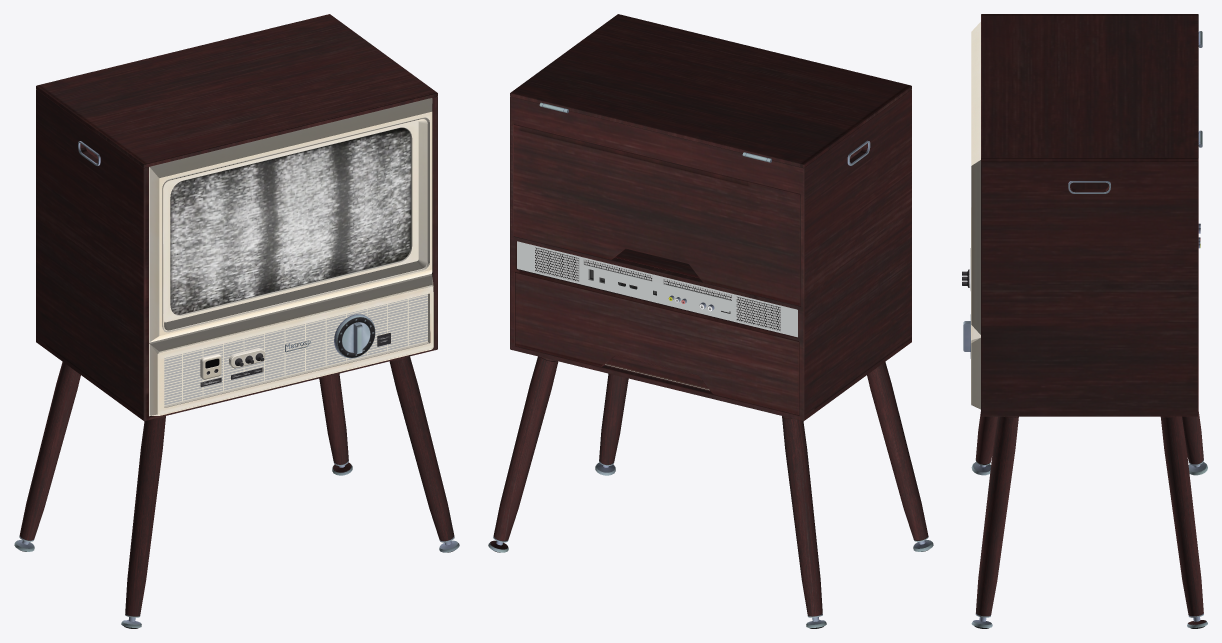
The model's file is retro_tv.obj.
3 renders of one model, left to right at view 1: azimuth 30°, elevation 25°; view 2: azimuth 150°, elevation 25°; view 3: azimuth 270°, elevation 25°, orthographic.
Visible parts, largest first — view 1: obj6, obj16, obj20, obj8, obj15, obj24, obj17, obj13, obj12, obj10, obj11; view 2: obj20, obj6, obj18, obj19, obj8, obj22, obj24, obj13; view 3: obj20, obj6, obj8, obj15, obj13.
Boxes of the visible parts, <box> form: obj6: <box>36,14,437,167</box>; obj16: <box>170,127,411,314</box>; obj20: <box>36,89,437,421</box>; obj8: <box>14,356,459,628</box>; obj15: <box>149,98,432,342</box>; obj24: <box>164,294,427,405</box>; obj17: <box>162,117,427,330</box>; obj13: <box>149,274,433,416</box>; obj12: <box>158,286,432,414</box>; obj10: <box>334,314,375,358</box>; obj11: <box>342,322,370,353</box>; obj20: <box>510,89,911,421</box>; obj6: <box>510,14,911,167</box>; obj18: <box>513,124,800,305</box>; obj19: <box>515,272,799,414</box>; obj8: <box>488,356,933,628</box>; obj22: <box>517,241,797,337</box>; obj24: <box>535,247,780,330</box>; obj13: <box>605,249,709,390</box>; obj20: <box>981,161,1198,416</box>; obj6: <box>981,14,1198,161</box>; obj8: <box>971,412,1207,628</box>; obj15: <box>971,22,980,334</box>; obj13: <box>971,182,1108,409</box>.
Bounding box in the file's own units: 0.8217 × 1.08 × 0.518.
